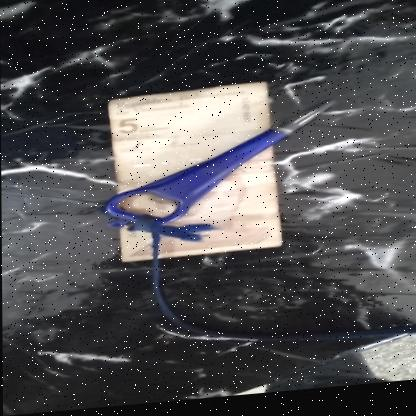five-front-vef: (109, 84, 283, 264)
